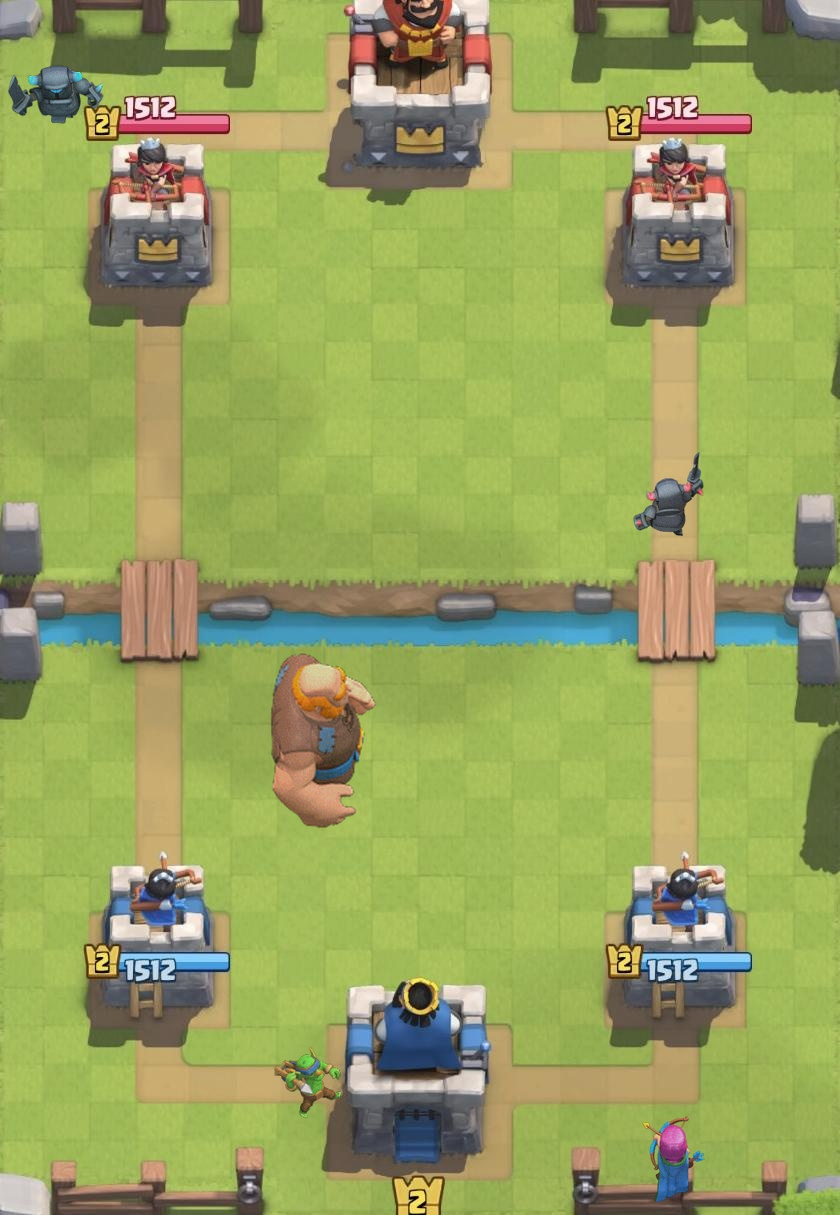archer_ally: (642, 1116, 705, 1202)
giant_ally: (270, 653, 377, 828)
mekka_ally: (7, 65, 104, 124)
mekka_enemy: (633, 451, 704, 537)
spoblin_ally: (274, 1046, 342, 1119)
